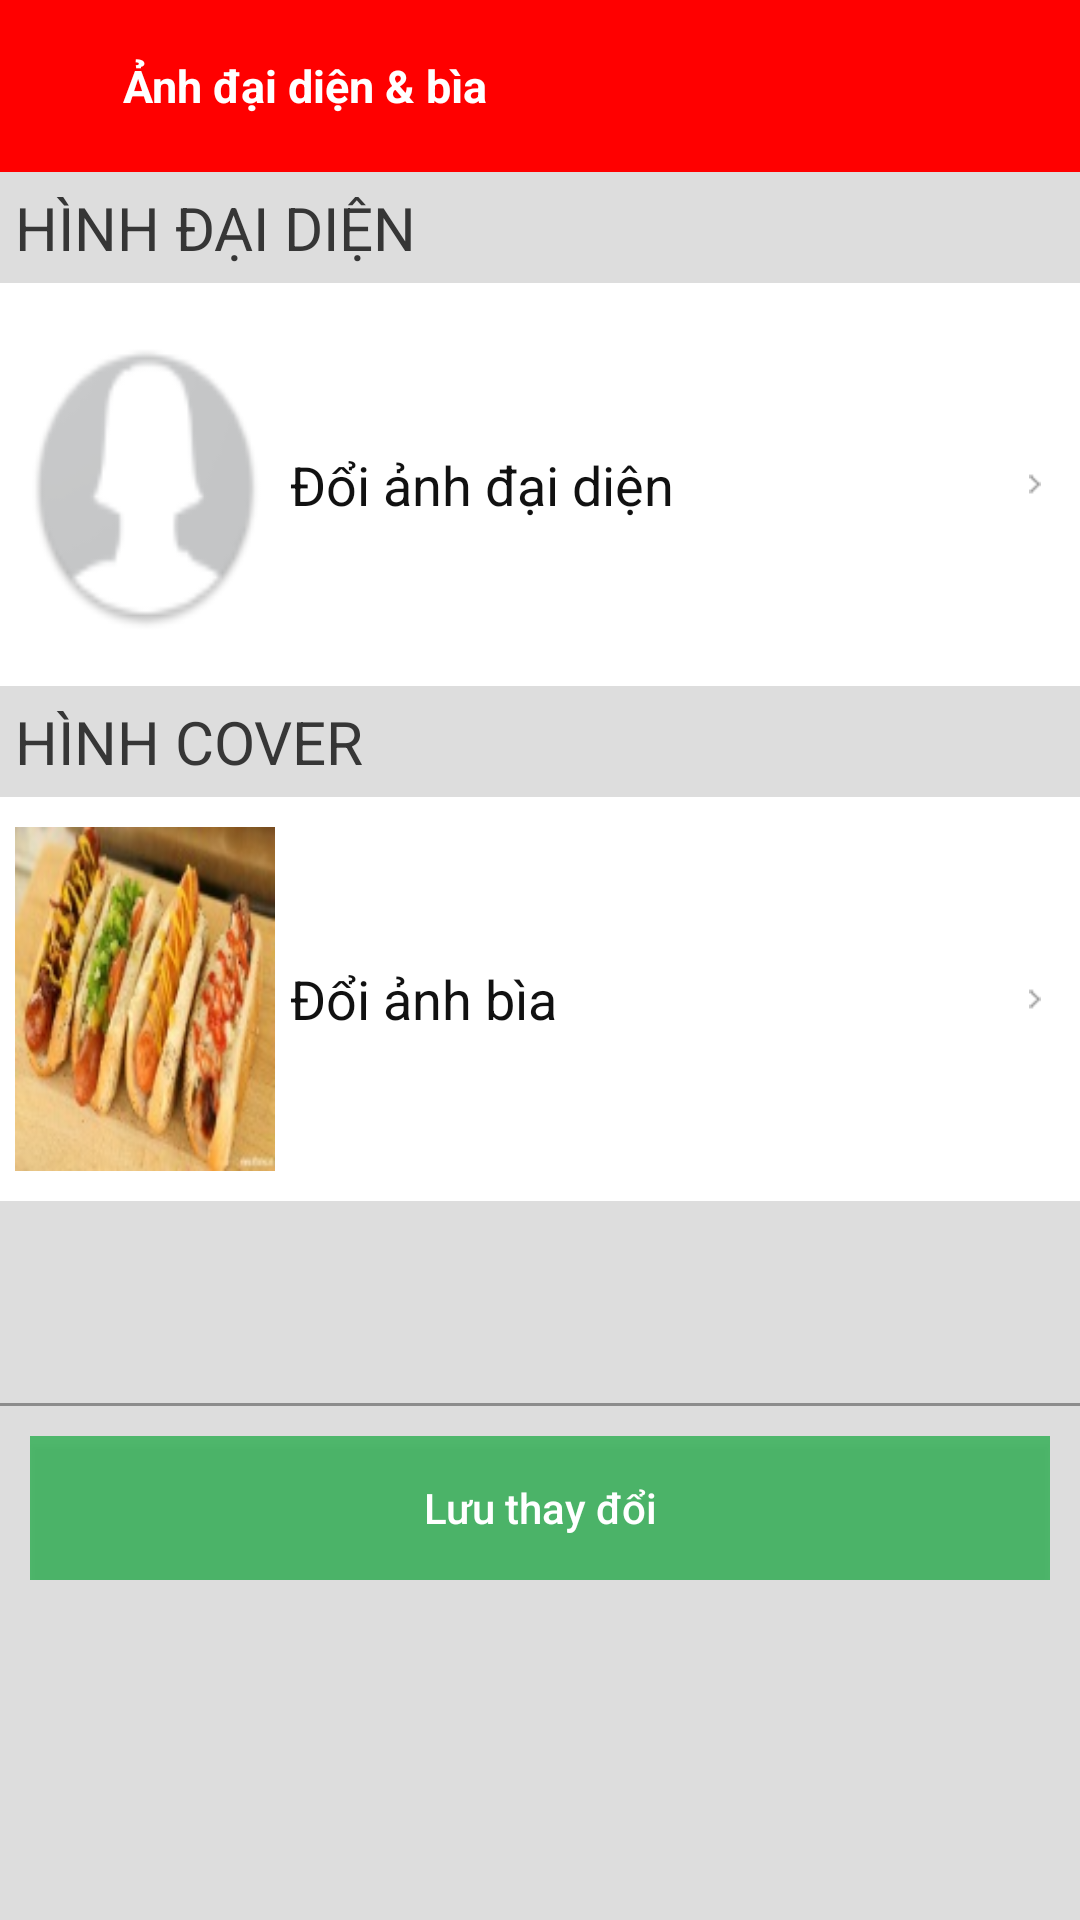

Icons on this 1080 x 1920 Android screen, each with the point to tap as (x=x, y=y):
angi: (x=145, y=999)
daidien: (x=146, y=488)
